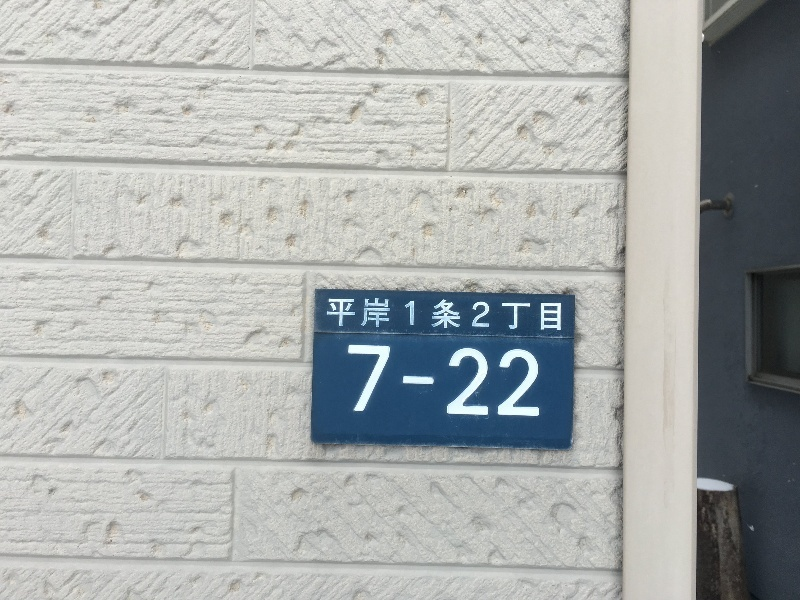text: (353, 341, 368, 422), (369, 341, 384, 422), (385, 341, 400, 422), (401, 341, 416, 422), (417, 341, 432, 422), (433, 341, 448, 422), (449, 341, 464, 422), (465, 341, 480, 422), (481, 341, 496, 422), (497, 341, 512, 422), (513, 341, 528, 422), (529, 341, 544, 422), (344, 341, 352, 422), (337, 295, 352, 334), (353, 295, 368, 334), (369, 295, 384, 334), (385, 295, 400, 334), (401, 295, 416, 334), (417, 295, 432, 334), (433, 295, 448, 334), (449, 295, 464, 334), (465, 295, 480, 334), (481, 295, 496, 334), (497, 295, 512, 334), (513, 295, 528, 334), (529, 295, 544, 334), (545, 295, 560, 334), (327, 295, 336, 334), (561, 295, 564, 334)
